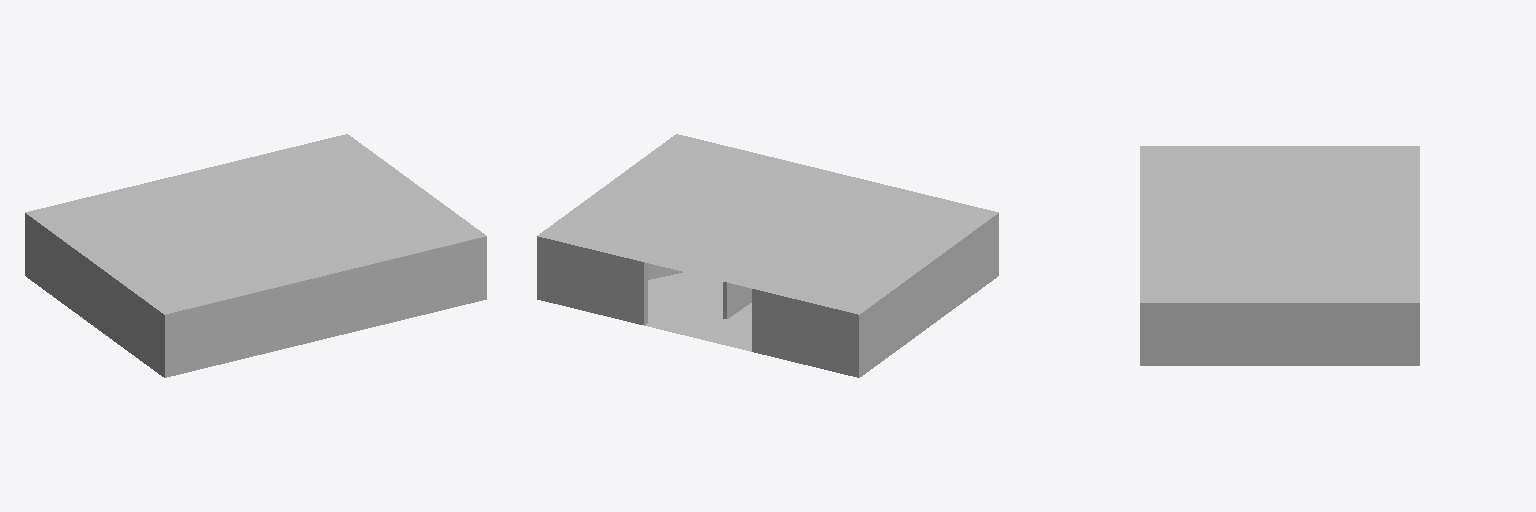
Rendered from RoomRight.obj.
3 views of the same model, side by side, from view 1: azimuth 30°, elevation 25°; view 2: azimuth 150°, elevation 25°; view 3: azimuth 270°, elevation 25° (orthographic).
Parts seen in each view (by area): view 1: Plane.002; view 2: Plane.002; view 3: Plane.002.
Part boxes in pixels (x1,y1,x2,y2): Plane.002: (25, 134, 486, 377); Plane.002: (537, 134, 998, 377); Plane.002: (1140, 146, 1419, 365).
Bounding box in the file's own units: 48 × 9 × 36.